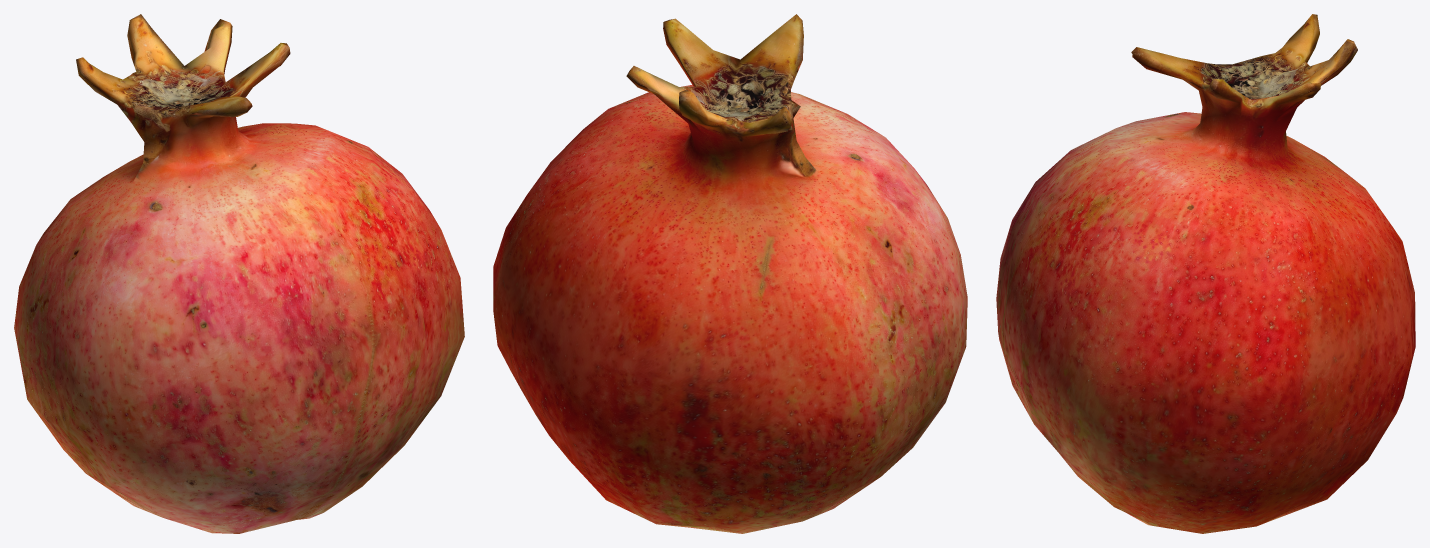
File: pomegranate_scan_lowpoly.glb
The picture shows the model from 3 angles, left to right: view 1: azimuth 30°, elevation 25°; view 2: azimuth 150°, elevation 25°; view 3: azimuth 270°, elevation 25°; orthographic projection. The views are drawn at different scales.
Visible parts, largest first — view 1: Pomegranate; view 2: Pomegranate; view 3: Pomegranate.
Part boxes in pixels (box(x1,y1,x2,y2)): Pomegranate: box(14, 14, 464, 533); Pomegranate: box(493, 14, 967, 533); Pomegranate: box(996, 14, 1415, 533).
Bounding box in the file's own units: 0.5396 × 0.6098 × 0.5107.
1 material, 1 textured.
